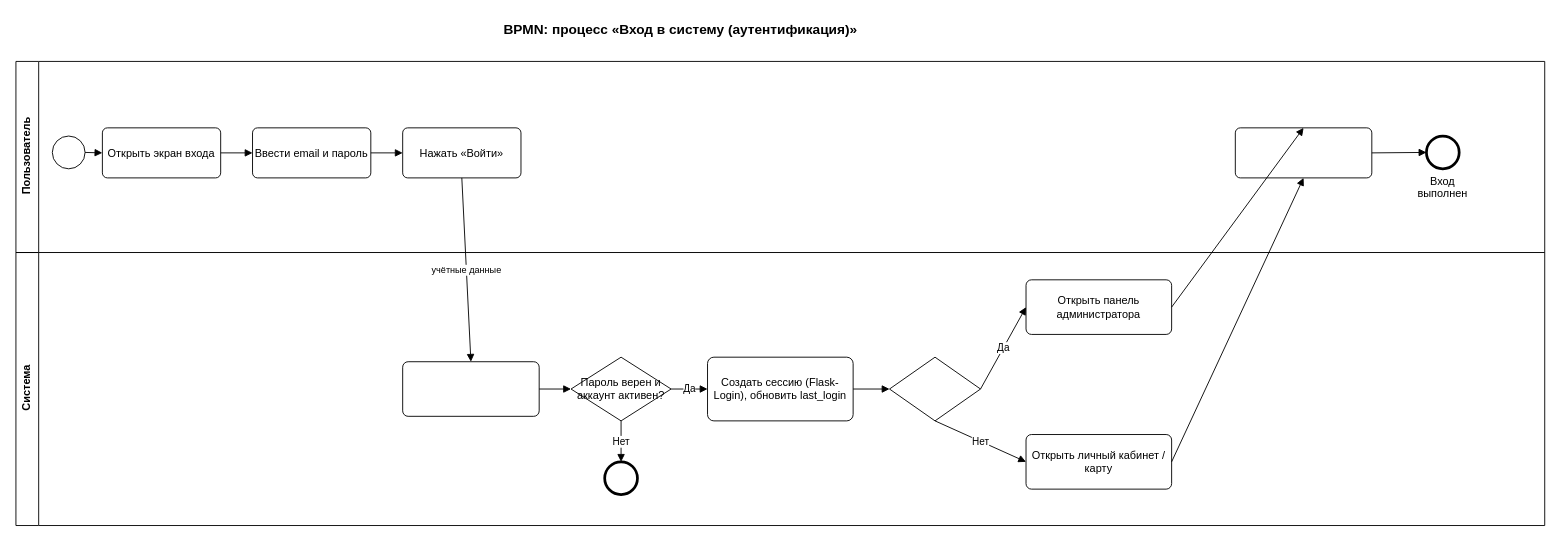
This 1561x542 diagram has some shape labels left out. Each missing label, with the centre of its shape:
Начало: (x=68, y=152)
Нормализовать email, найти пользователя: (x=470, y=388)
Отказ в доступе: (x=620, y=477)
Работа в системе: (x=1303, y=152)
Роль = администратор?: (x=935, y=388)
